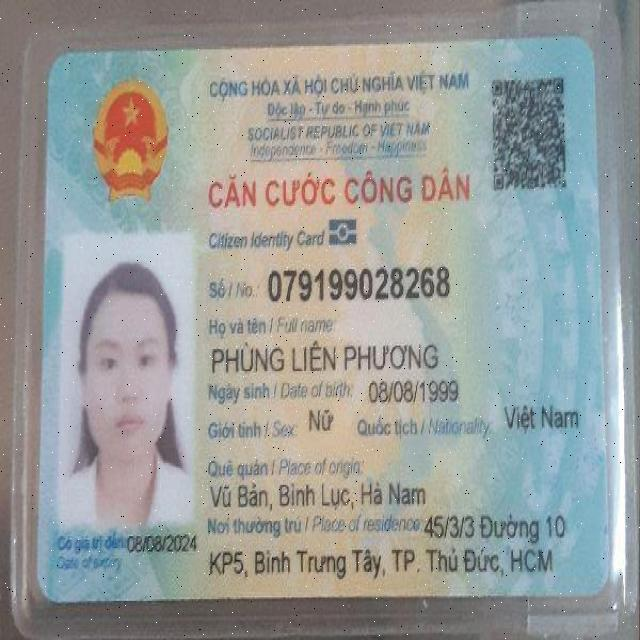current_place: (205, 542, 556, 581), (425, 508, 564, 546)
dob: (364, 374, 467, 414)
expire_date: (126, 531, 201, 557)
gender: (303, 401, 337, 433)
id: (266, 258, 457, 311)
name: (207, 337, 447, 376)
nationality: (489, 394, 591, 438)
origin_place: (208, 475, 433, 511)
